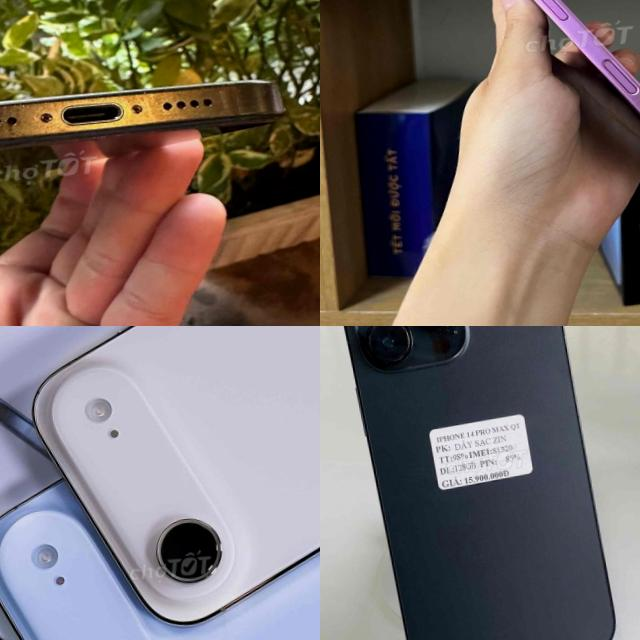gen_14: (320, 326, 630, 640)
gen_16: (457, 0, 640, 197), (0, 80, 283, 149)
